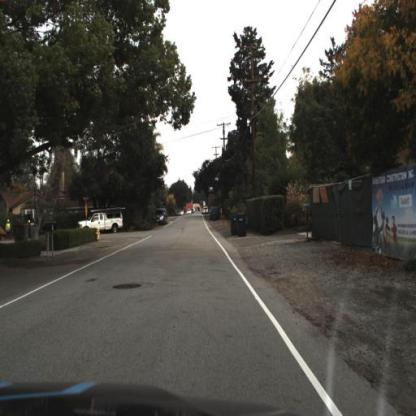car: (77, 208, 125, 239), (152, 214, 166, 234)
